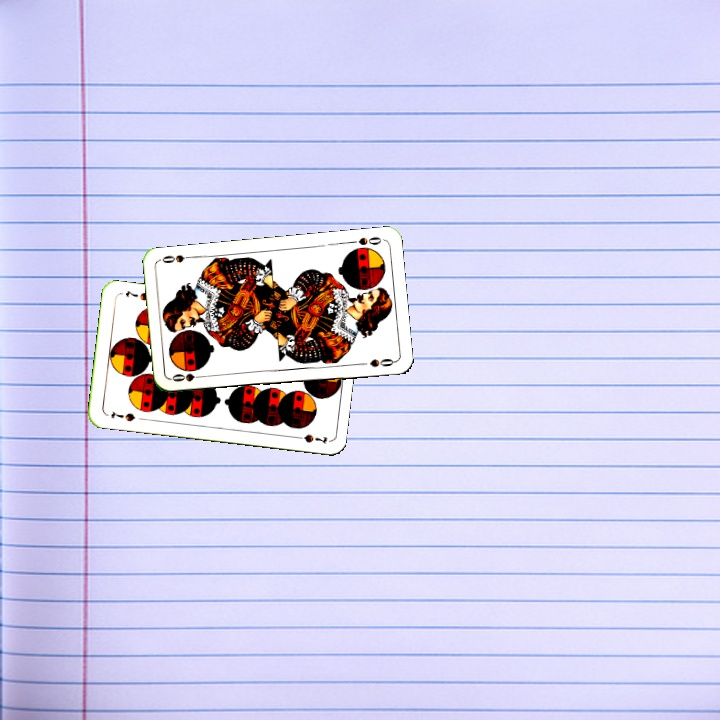S7: (107, 407, 137, 424)
SO: (168, 369, 209, 384), (345, 233, 385, 248)
